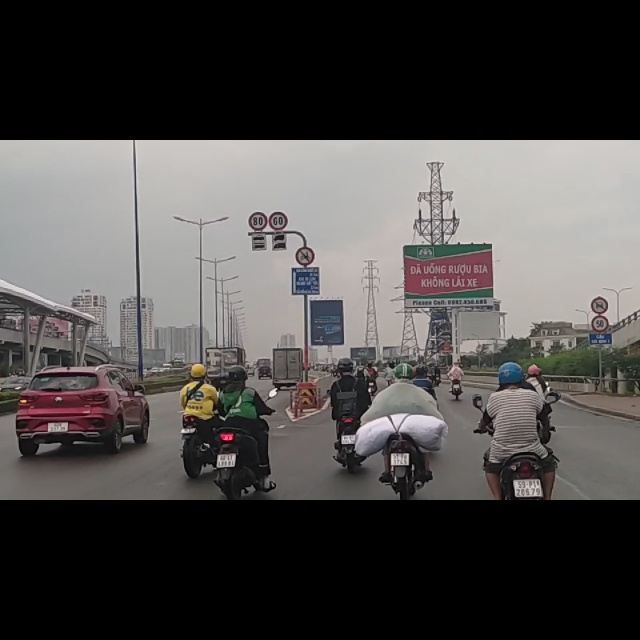bien_cam: (295, 190, 317, 223), (248, 128, 266, 160), (269, 129, 288, 159), (591, 275, 607, 309), (592, 313, 609, 344)
